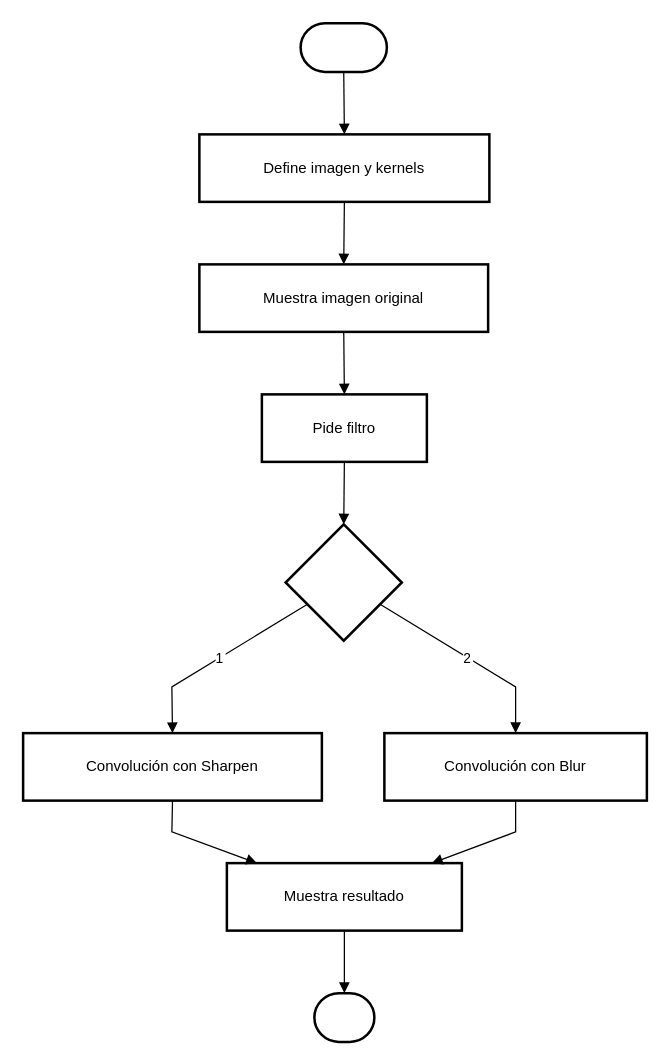
The diagram is 669 pixels wide and 1064 high, and some of its shapes have lost their labels. Here are the shapes that lost their labels. From the top down, the centre of each, then its label:
At (x=343, y=46): "INICIO".
At (x=343, y=581): "Filtro".
At (x=343, y=1016): "FIN".
